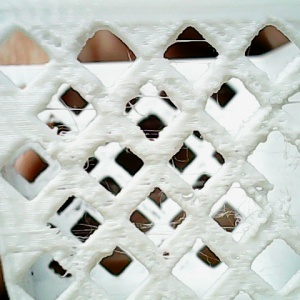3dpstringing: (41, 98, 99, 136), (126, 95, 177, 137), (269, 129, 299, 173), (211, 206, 253, 237), (74, 221, 106, 243), (168, 144, 190, 174), (195, 246, 222, 270), (165, 35, 211, 47), (168, 58, 214, 69), (123, 44, 137, 72), (75, 155, 92, 174), (55, 265, 73, 282), (207, 92, 223, 109), (280, 96, 299, 110), (135, 222, 156, 233), (171, 214, 187, 228)
3dpunderextrusion: (162, 75, 207, 111), (254, 184, 296, 221), (34, 26, 69, 58), (168, 181, 206, 209), (147, 240, 180, 264)
